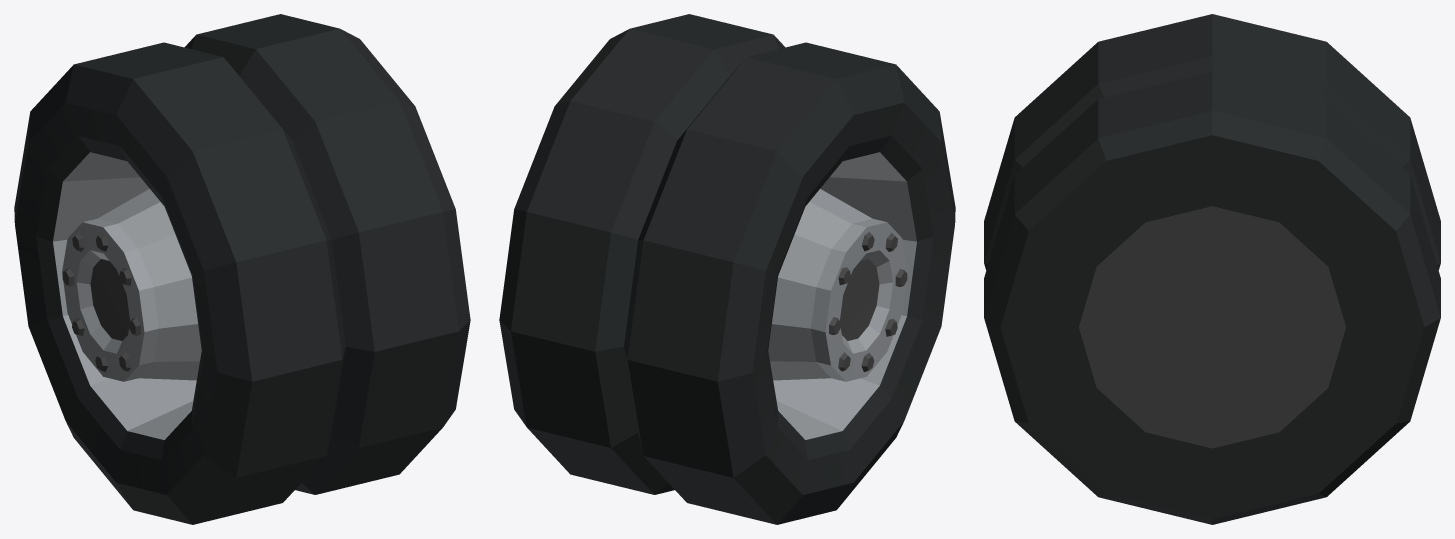
File: SM_Veh_Truck_Wheel_rr_01.obj
The picture shows the model from 3 angles, left to right: view 1: azimuth 30°, elevation 25°; view 2: azimuth 150°, elevation 25°; view 3: azimuth 270°, elevation 25°; orthographic projection. The views are drawn at different scales.
Visible parts, largest first — view 1: SM_Veh_Truck_Wheel_rr_01_0; view 2: SM_Veh_Truck_Wheel_rr_01_0; view 3: SM_Veh_Truck_Wheel_rr_01_0.
Part boxes in pixels (<box>): SM_Veh_Truck_Wheel_rr_01_0: <box>14,14,470,524</box>; SM_Veh_Truck_Wheel_rr_01_0: <box>499,14,955,524</box>; SM_Veh_Truck_Wheel_rr_01_0: <box>984,14,1440,524</box>.
Size of the model in its own units: 0.6631 by 1.05 by 1.05.
Materials: 1 (1 with a texture image).
